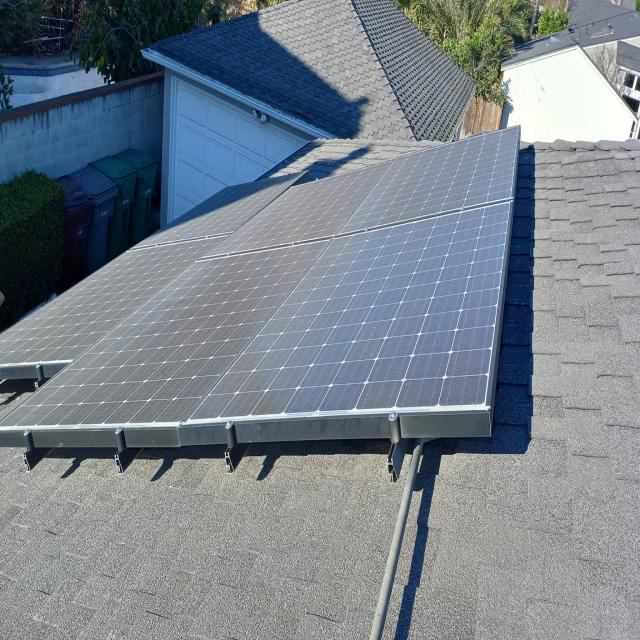dust-solar-panel: (0, 124, 519, 436)
